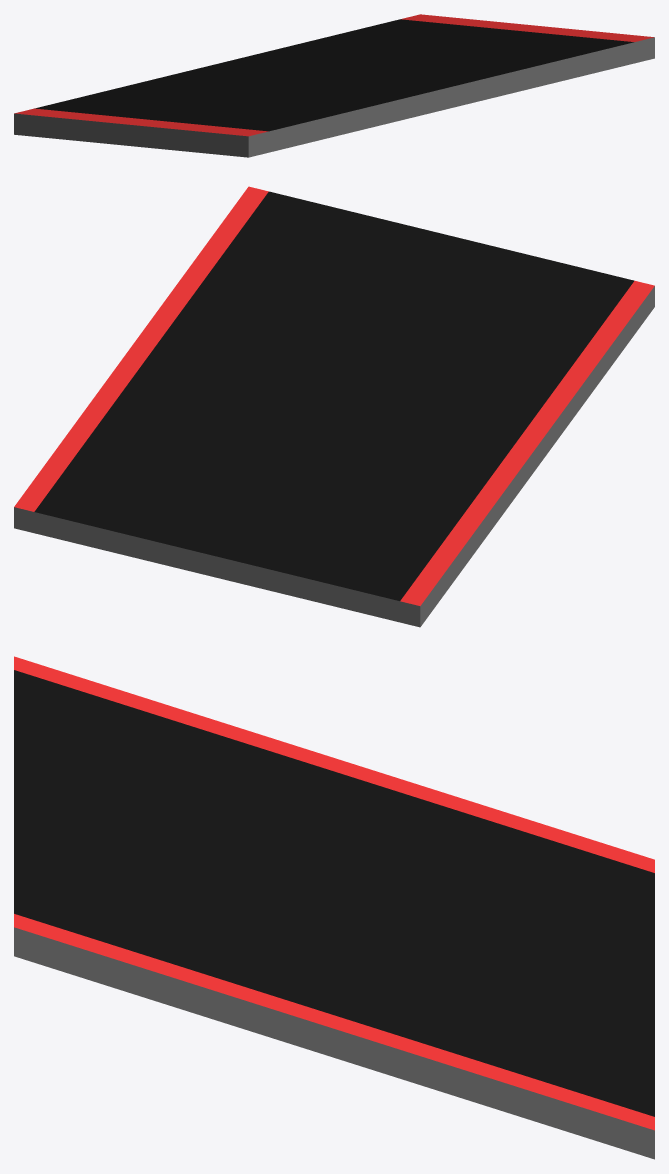
Rendered from Streckenmodul_-_Rampe_Flach_Mitte.fbx.
The picture shows the model from 3 angles, top to bottom: view 1: azimuth 30°, elevation 25°; view 2: azimuth 150°, elevation 25°; view 3: azimuth 270°, elevation 25°; orthographic projection. The views are drawn at different scales.
Visible parts, largest first — view 1: Streckenmodul - Rampe_Flach_Mitte; view 2: Streckenmodul - Rampe_Flach_Mitte; view 3: Streckenmodul - Rampe_Flach_Mitte.
Part boxes in pixels (x1,y1,x2,y2): Streckenmodul - Rampe_Flach_Mitte: (14, 14, 654, 157); Streckenmodul - Rampe_Flach_Mitte: (14, 186, 654, 627); Streckenmodul - Rampe_Flach_Mitte: (14, 656, 654, 1159).
Size of the model in its own units: 394 by 157 by 394.
